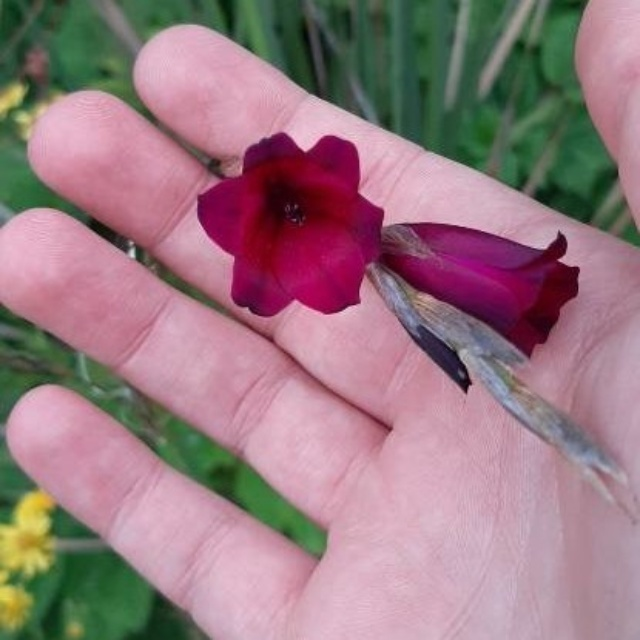obstacle: (204, 128, 606, 477)
